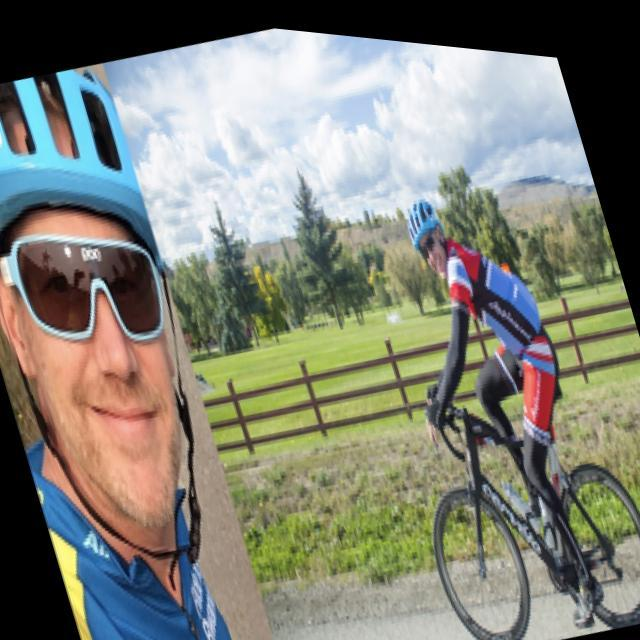Helmet: (0, 66, 215, 547), (397, 192, 451, 280)
